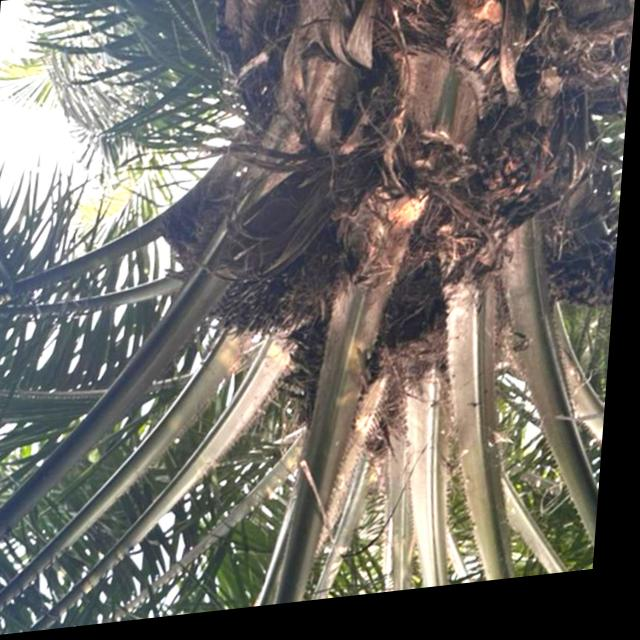almost: (199, 212, 339, 356)
